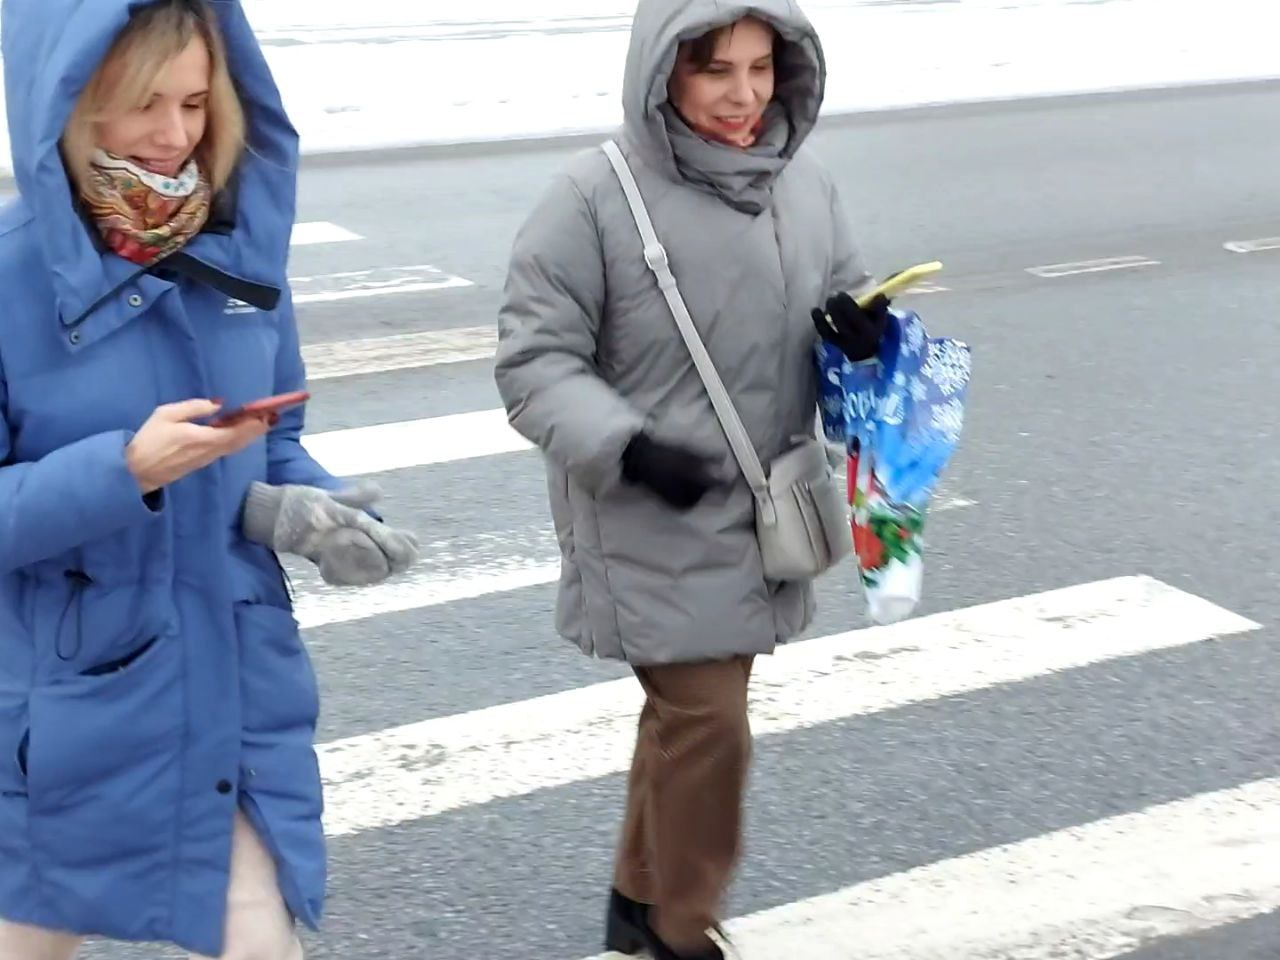sombie: (500, 4, 938, 960), (9, 1, 388, 960)
